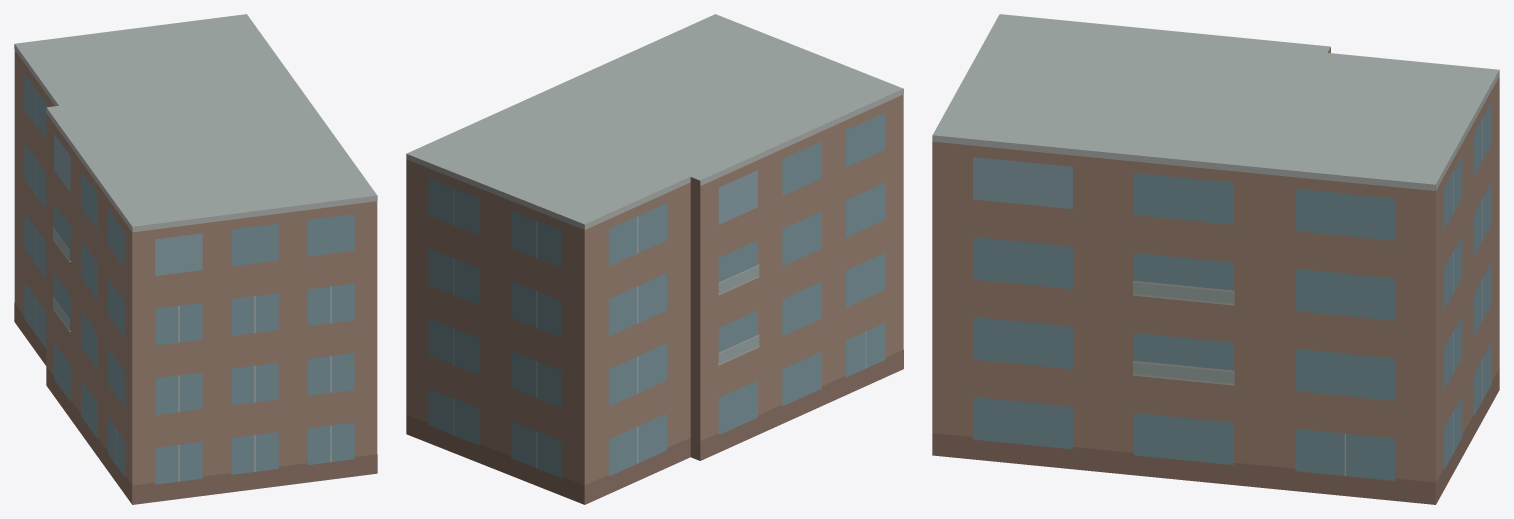
File: survey-upis-32830849.glb
3 views of the same model, side by side, from view 1: azimuth 30°, elevation 25°; view 2: azimuth 150°, elevation 25°; view 3: azimuth 270°, elevation 25° (orthographic). The views are drawn at different scales.
Visible parts, largest first — view 1: survey-upis-32830849.tmp; view 2: survey-upis-32830849.tmp; view 3: survey-upis-32830849.tmp.
Boxes of the visible parts, x1,y1,x2,y2 form: survey-upis-32830849.tmp: (14,14,377,504); survey-upis-32830849.tmp: (406,14,903,504); survey-upis-32830849.tmp: (932,14,1499,504).
Bounding box in the file's own units: 13.96 × 12.2 × 19.6.
